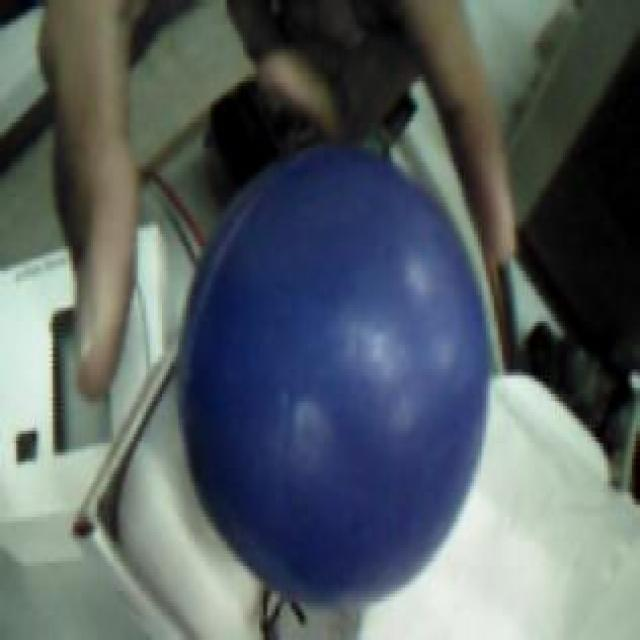BallPurple: (178, 146, 486, 606)
